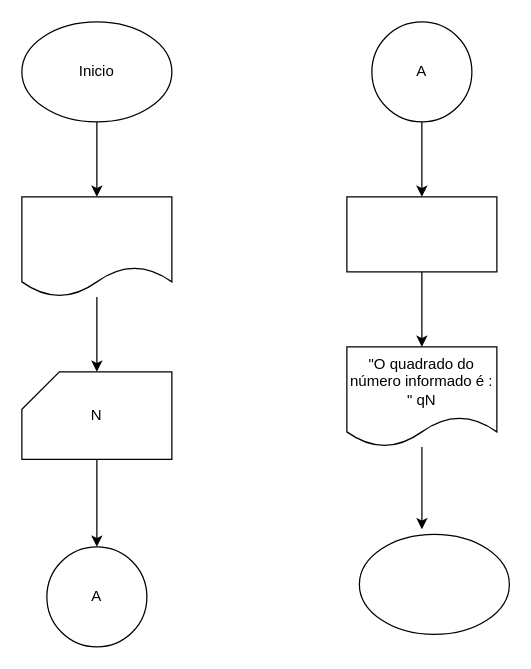
Some shapes in this 531 by 669 pixel diagram are drawn without their labels. Each missing label, with the box of its shape:
"Informe um número": (21, 196, 172, 297)
Fim: (358, 533, 509, 634)
nQ <- N * N: (346, 196, 497, 272)
